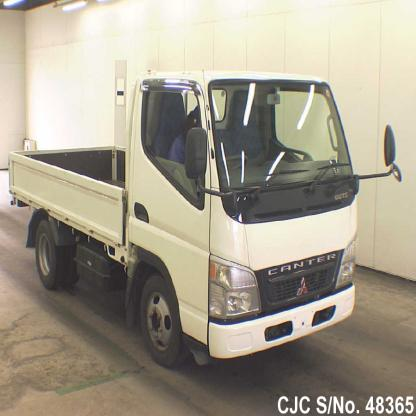truck: (9, 68, 398, 366)
